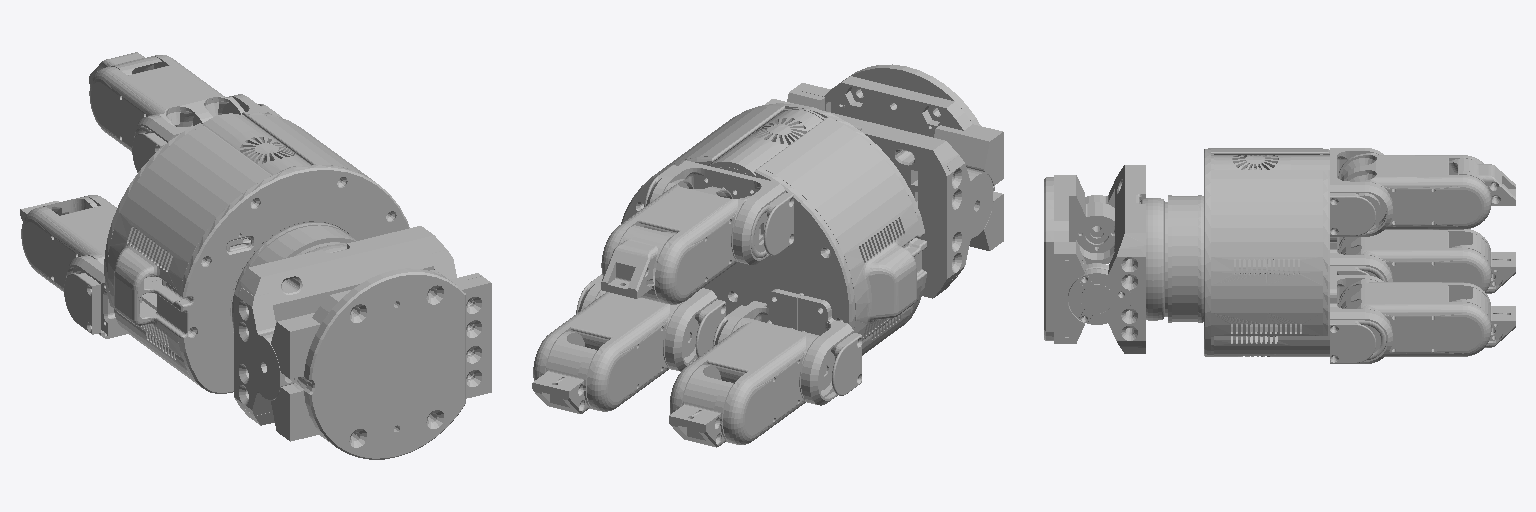
--- Facts derived from the render (not from the file) ---
Views: 3 orthographic renders of the robot side by side, from view 1: azimuth 30°, elevation 25°; view 2: azimuth 150°, elevation 25°; view 3: azimuth 270°, elevation 25°.
Robot: ur10 — 36 links, 35 joints (13 revolute, 22 fixed); root link world; default pose: all joints at 0.
Links seen in each view (by area): view 1: H1_base_link, H1_WR_wrist_base, H1_WR_wrist, H1_F1_link_1, H1_F2_link_1, H1_F1_base_link, H1_F2_base_link, H1_WR_force_torque_sensor, H1_F1_link_2, H1_F2_link_2; view 2: H1_base_link, H1_WR_wrist_base, H1_WR_wrist, H1_F2_link_1, H1_F3_link_1, H1_F1_base_link, H1_F1_link_1, H1_F2_base_link, H1_F3_link_2, H1_F2_link_2, H1_F1_link_2, H1_F3_base_link; view 3: H1_base_link, H1_WR_wrist, H1_F3_link_1, H1_F1_link_1, H1_WR_wrist_base, H1_WR_force_torque_sensor, H1_F3_base_link, H1_F2_link_1, H1_F1_base_link, H1_F2_base_link, H1_F1_link_2, H1_F2_link_2 (+1 smaller).
Boxes of the visible links, x1,y1,x2,y2 form: H1_base_link: (104, 112, 409, 393); H1_WR_wrist_base: (271, 268, 491, 459); H1_WR_wrist: (234, 226, 456, 425); H1_F1_link_1: (89, 55, 244, 151); H1_F2_link_1: (21, 195, 116, 291); H1_F1_base_link: (132, 94, 310, 175); H1_F2_base_link: (64, 255, 193, 381); H1_WR_force_torque_sensor: (232, 223, 355, 327); H1_F1_link_2: (89, 52, 162, 83); H1_F2_link_2: (20, 197, 97, 220); H1_base_link: (621, 103, 926, 340); H1_WR_wrist_base: (787, 64, 1003, 250); H1_WR_wrist: (765, 99, 992, 298); H1_F2_link_1: (670, 318, 834, 444); H1_F3_link_1: (533, 290, 698, 411); H1_F1_base_link: (644, 110, 822, 264); H1_F1_link_1: (601, 179, 760, 304); H1_F2_base_link: (713, 289, 911, 405); H1_F3_link_2: (532, 331, 596, 413); H1_F2_link_2: (669, 365, 733, 447); H1_F1_link_2: (601, 225, 675, 302); H1_F3_base_link: (576, 274, 725, 371); H1_base_link: (1204, 148, 1329, 356); H1_WR_wrist: (1068, 165, 1145, 353); H1_F3_link_1: (1338, 279, 1491, 356); H1_F1_link_1: (1338, 153, 1491, 229); H1_WR_wrist_base: (1044, 175, 1114, 343); H1_WR_force_torque_sensor: (1114, 195, 1203, 322); H1_F3_base_link: (1214, 270, 1392, 363); H1_F2_link_1: (1338, 229, 1491, 292); H1_F1_base_link: (1214, 148, 1392, 241); H1_F2_base_link: (1234, 237, 1392, 281); H1_F1_link_2: (1449, 158, 1515, 205); H1_F2_link_2: (1452, 233, 1515, 293).
Bounding box of the posed robot: 0.1514 × 0.287 × 0.1175 m (x, y, z).
Meshes: 15 distinct files referenced, 13 mesh visuals loaded (7 Collada DAE); not drawn: 10 (reference not matched to a file when rendering).

The robot description file, URDF, robot "ur10":
<?xml version="1.0" ?>
<!-- =================================================================================== -->
<!-- |    This document was autogenerated by xacro from /smart_grasping_sandbox/src/smart_grasping_sandbox/fh_desc/robots/right_H1_ur5.urdf | -->
<!-- |    EDITING THIS FILE BY HAND IS NOT RECOMMENDED                                 | -->
<!-- =================================================================================== -->
<robot name="ur10" xmlns:xacro="http://ros.org/wiki/xacro">
  <!--
  Author: Kelsey Hawkins
  Contributers: Jimmy Da Silva, Ajit Krisshna N L, Muhammad Asif Rana
-->
  <!-- Inertia parameters -->
  <!-- This mass might be incorrect -->
  <!-- These parameters are borrowed from the urcontrol.conf file
       but are not verified for the correct permutation.
       The permutation was guessed by looking at the UR5 parameters.
       Serious use of these parameters needs further inspection. -->
  <!-- Kinematic model -->
  <!-- Properties from urcontrol.conf -->
  <!-- Arbitrary offsets for shoulder/elbow joints -->
  <!-- measured from model -->
  <!-- measured from model -->
  <!-- link lengths used in model -->
  <link name="world"/>
  <joint name="world_joint" type="fixed">
    <parent link="world"/>
    <child link="base_link"/>
    <origin rpy="0.0 0.0 0.0" xyz="0.0 0.0 0.0"/>
  </joint>
  <link name="base_link">
    <visual>
      <geometry>
        <mesh filename="model://ur_description/meshes/ur10/visual/base.dae"/>
      </geometry>
      <material name="LightGrey">
        <color rgba="0.7 0.7 0.7 1.0"/>
      </material>
    </visual>
    <collision>
      <geometry>
        <mesh filename="model://ur_description/meshes/ur10/collision/base.dae"/>
      </geometry>
    </collision>
    <inertial>
      <mass value="4.0"/>
      <origin rpy="0 0 0" xyz="0.0 0.0 0.0"/>
      <inertia ixx="0.0061063308908" ixy="0.0" ixz="0.0" iyy="0.0061063308908" iyz="0.0" izz="0.01125"/>
    </inertial>
  </link>
  <joint name="shoulder_pan_joint" type="revolute">
    <parent link="base_link"/>
    <child link="shoulder_link"/>
    <origin rpy="0.0 0.0 0.0" xyz="0.0 0.0 0.1273"/>
    <axis xyz="0 0 1"/>
    <limit effort="330.0" lower="-3.14159265359" upper="3.14159265359" velocity="2.16"/>
    <dynamics damping="0.0" friction="0.0"/>
  </joint>
  <link name="shoulder_link">
    <visual>
      <geometry>
        <mesh filename="model://ur_description/meshes/ur10/visual/shoulder.dae"/>
      </geometry>
      <material name="LightGrey">
        <color rgba="0.7 0.7 0.7 1.0"/>
      </material>
    </visual>
    <collision>
      <geometry>
        <mesh filename="model://ur_description/meshes/ur10/collision/shoulder.dae"/>
      </geometry>
    </collision>
    <inertial>
      <mass value="7.778"/>
      <origin rpy="0 0 0" xyz="0.0 0.0 0.0"/>
      <inertia ixx="0.0314743125769" ixy="0.0" ixz="0.0" iyy="0.0314743125769" iyz="0.0" izz="0.021875625"/>
    </inertial>
  </link>
  <joint name="shoulder_lift_joint" type="revolute">
    <parent link="shoulder_link"/>
    <child link="upper_arm_link"/>
    <origin rpy="0.0 1.57079632679 0.0" xyz="0.0 0.220941 0.0"/>
    <axis xyz="0 1 0"/>
    <limit effort="330.0" lower="-3.14159265359" upper="3.14159265359" velocity="2.16"/>
    <dynamics damping="0.0" friction="0.0"/>
  </joint>
  <link name="upper_arm_link">
    <visual>
      <geometry>
        <mesh filename="model://ur_description/meshes/ur10/visual/upperarm.dae"/>
      </geometry>
      <material name="LightGrey">
        <color rgba="0.7 0.7 0.7 1.0"/>
      </material>
    </visual>
    <collision>
      <geometry>
        <mesh filename="model://ur_description/meshes/ur10/collision/upperarm.dae"/>
      </geometry>
    </collision>
    <inertial>
      <mass value="12.93"/>
      <origin rpy="0 0 0" xyz="0.0 0.0 0.306"/>
      <inertia ixx="0.421753803798" ixy="0.0" ixz="0.0" iyy="0.421753803798" iyz="0.0" izz="0.036365625"/>
    </inertial>
  </link>
  <joint name="elbow_joint" type="revolute">
    <parent link="upper_arm_link"/>
    <child link="forearm_link"/>
    <origin rpy="0.0 0.0 0.0" xyz="0.0 -0.1719 0.612"/>
    <axis xyz="0 1 0"/>
    <limit effort="150.0" lower="-3.14159265359" upper="3.14159265359" velocity="3.15"/>
    <dynamics damping="0.0" friction="0.0"/>
  </joint>
  <link name="forearm_link">
    <visual>
      <geometry>
        <mesh filename="model://ur_description/meshes/ur10/visual/forearm.dae"/>
      </geometry>
      <material name="LightGrey">
        <color rgba="0.7 0.7 0.7 1.0"/>
      </material>
    </visual>
    <collision>
      <geometry>
        <mesh filename="model://ur_description/meshes/ur10/collision/forearm.dae"/>
      </geometry>
    </collision>
    <inertial>
      <mass value="3.87"/>
      <origin rpy="0 0 0" xyz="0.0 0.0 0.28615"/>
      <inertia ixx="0.111069694097" ixy="0.0" ixz="0.0" iyy="0.111069694097" iyz="0.0" izz="0.010884375"/>
    </inertial>
  </link>
  <joint name="wrist_1_joint" type="revolute">
    <parent link="forearm_link"/>
    <child link="wrist_1_link"/>
    <origin rpy="0.0 1.57079632679 0.0" xyz="0.0 0.0 0.5723"/>
    <axis xyz="0 1 0"/>
    <limit effort="54.0" lower="-3.14159265359" upper="3.14159265359" velocity="3.2"/>
    <dynamics damping="0.0" friction="0.0"/>
  </joint>
  <link name="wrist_1_link">
    <visual>
      <geometry>
        <mesh filename="model://ur_description/meshes/ur10/visual/wrist1.dae"/>
      </geometry>
      <material name="LightGrey">
        <color rgba="0.7 0.7 0.7 1.0"/>
      </material>
    </visual>
    <collision>
      <geometry>
        <mesh filename="model://ur_description/meshes/ur10/collision/wrist1.dae"/>
      </geometry>
    </collision>
    <inertial>
      <mass value="1.96"/>
      <origin rpy="0 0 0" xyz="0.0 0.0 0.0"/>
      <inertia ixx="0.0051082479567" ixy="0.0" ixz="0.0" iyy="0.0051082479567" iyz="0.0" izz="0.0055125"/>
    </inertial>
  </link>
  <joint name="wrist_2_joint" type="revolute">
    <parent link="wrist_1_link"/>
    <child link="wrist_2_link"/>
    <origin rpy="0.0 0.0 0.0" xyz="0.0 0.1149 0.0"/>
    <axis xyz="0 0 1"/>
    <limit effort="54.0" lower="-3.14159265359" upper="3.14159265359" velocity="3.2"/>
    <dynamics damping="0.0" friction="0.0"/>
  </joint>
  <link name="wrist_2_link">
    <visual>
      <geometry>
        <mesh filename="model://ur_description/meshes/ur10/visual/wrist2.dae"/>
      </geometry>
      <material name="LightGrey">
        <color rgba="0.7 0.7 0.7 1.0"/>
      </material>
    </visual>
    <collision>
      <geometry>
        <mesh filename="model://ur_description/meshes/ur10/collision/wrist2.dae"/>
      </geometry>
    </collision>
    <inertial>
      <mass value="1.96"/>
      <origin rpy="0 0 0" xyz="0.0 0.0 0.0"/>
      <inertia ixx="0.0051082479567" ixy="0.0" ixz="0.0" iyy="0.0051082479567" iyz="0.0" izz="0.0055125"/>
    </inertial>
  </link>
  <joint name="wrist_3_joint" type="revolute">
    <parent link="wrist_2_link"/>
    <child link="wrist_3_link"/>
    <origin rpy="0.0 0.0 0.0" xyz="0.0 0.0 0.1157"/>
    <axis xyz="0 1 0"/>
    <limit effort="54.0" lower="-3.14159265359" upper="3.14159265359" velocity="3.2"/>
    <dynamics damping="0.0" friction="0.0"/>
  </joint>
  <link name="wrist_3_link">
    <visual>
      <geometry>
        <mesh filename="model://ur_description/meshes/ur10/visual/wrist3.dae"/>
      </geometry>
      <material name="LightGrey">
        <color rgba="0.7 0.7 0.7 1.0"/>
      </material>
    </visual>
    <collision>
      <geometry>
        <mesh filename="model://ur_description/meshes/ur10/collision/wrist3.dae"/>
      </geometry>
    </collision>
    <inertial>
      <mass value="0.202"/>
      <origin rpy="0 0 0" xyz="0.0 0.0 0.0"/>
      <inertia ixx="0.000526462289415" ixy="0.0" ixz="0.0" iyy="0.000526462289415" iyz="0.0" izz="0.000568125"/>
    </inertial>
  </link>
  <joint name="ee_fixed_joint" type="fixed">
    <parent link="wrist_3_link"/>
    <child link="ee_link"/>
    <origin rpy="0.0 0.0 1.57079632679" xyz="0.0 0.0922 0.0"/>
  </joint>
  <link name="ee_link">
    <collision>
      <geometry>
        <box size="0.01 0.01 0.01"/>
      </geometry>
      <origin rpy="0 0 0" xyz="-0.01 0 0"/>
    </collision>
  </link>
  <transmission name="shoulder_pan_trans">
    <type>transmission_interface/SimpleTransmission</type>
    <joint name="shoulder_pan_joint">
      <hardwareInterface>PositionJointInterface</hardwareInterface>
    </joint>
    <actuator name="shoulder_pan_motor">
      <mechanicalReduction>1</mechanicalReduction>
    </actuator>
  </transmission>
  <transmission name="shoulder_lift_trans">
    <type>transmission_interface/SimpleTransmission</type>
    <joint name="shoulder_lift_joint">
      <hardwareInterface>PositionJointInterface</hardwareInterface>
    </joint>
    <actuator name="shoulder_lift_motor">
      <mechanicalReduction>1</mechanicalReduction>
    </actuator>
  </transmission>
  <transmission name="elbow_trans">
    <type>transmission_interface/SimpleTransmission</type>
    <joint name="elbow_joint">
      <hardwareInterface>PositionJointInterface</hardwareInterface>
    </joint>
    <actuator name="elbow_motor">
      <mechanicalReduction>1</mechanicalReduction>
    </actuator>
  </transmission>
  <transmission name="wrist_1_trans">
    <type>transmission_interface/SimpleTransmission</type>
    <joint name="wrist_1_joint">
      <hardwareInterface>PositionJointInterface</hardwareInterface>
    </joint>
    <actuator name="wrist_1_motor">
      <mechanicalReduction>1</mechanicalReduction>
    </actuator>
  </transmission>
  <transmission name="wrist_2_trans">
    <type>transmission_interface/SimpleTransmission</type>
    <joint name="wrist_2_joint">
      <hardwareInterface>PositionJointInterface</hardwareInterface>
    </joint>
    <actuator name="wrist_2_motor">
      <mechanicalReduction>1</mechanicalReduction>
    </actuator>
  </transmission>
  <transmission name="wrist_3_trans">
    <type>transmission_interface/SimpleTransmission</type>
    <joint name="wrist_3_joint">
      <hardwareInterface>PositionJointInterface</hardwareInterface>
    </joint>
    <actuator name="wrist_3_motor">
      <mechanicalReduction>1</mechanicalReduction>
    </actuator>
  </transmission>
  <!-- nothing to do here at the moment -->
  <!-- ROS base_link to UR 'Base' Coordinates transform -->
  <link name="base"/>
  <joint name="base_link-base_fixed_joint" type="fixed">
    <!-- NOTE: this rotation is only needed as long as base_link itself is
                 not corrected wrt the real robot (ie: rotated over 180
                 degrees)
      -->
    <origin rpy="0 0 -3.14159265359" xyz="0 0 0"/>
    <parent link="base_link"/>
    <child link="base"/>
  </joint>
  <!-- Frame coincident with all-zeros TCP on UR controller -->
  <link name="tool0"/>
  <joint name="wrist_3_link-tool0_fixed_joint" type="fixed">
    <origin rpy="-1.57079632679 0 0" xyz="0 0.0922 0"/>
    <parent link="wrist_3_link"/>
    <child link="tool0"/>
  </joint>
  <link name="H1_base_attach"/>
  <material name="Blue">
    <color rgba="0.0 0.0 0.8 1.0"/>
  </material>
  <material name="Green">
    <color rgba="0.0 0.8 0.0 1.0"/>
  </material>
  <material name="BiotacGreen">
    <color rgba="0.31 0.85 0.42 1.0"/>
  </material>
  <material name="Grey">
    <color rgba="0.2 0.2 0.2 1.0"/>
  </material>
  <material name="LightGrey">
    <color rgba="0.6 0.6 0.6 1.0"/>
  </material>
  <material name="Red">
    <color rgba="0.8 0.0 0.0 1.0"/>
  </material>
  <material name="White">
    <color rgba="1.0 1.0 1.0 1.0"/>
  </material>
  <gazebo>
    <plugin filename="libgazebo_ros_control.so" name="ros_control">
      <robotSimType>gazebo_ros_control/DefaultRobotHWSim</robotSimType>
    </plugin>
  </gazebo>
  <link name="H1_WR_wrist_base">
    <inertial>
      <origin rpy="0 0 0" xyz="0.00326865129997316 -4.64589898998213E-06 0.0112847129271115"/>
      <mass value="0.126266795472122"/>
      <inertia ixx="7.45469352483292E-05" ixy="6.02324465005139E-09" ixz="7.48046652661961E-07" iyy="0.000152711306761993" iyz="2.66777152755212E-09" izz="0.000201286651417327"/>
    </inertial>
    <visual>
      <origin rpy="0 0 0" xyz="0 0 0"/>
      <geometry>
        <mesh filename="model://fh_desc/meshes/wrist_base.dae"/>
      </geometry>
      <material name="light_grey">
        <color rgba="0.75 0.75 0.75 1.0"/>
      </material>
    </visual>
    <collision>
      <origin rpy="0 0 0" xyz="0 0 0"/>
      <geometry>
        <mesh filename="model://fh_desc/meshes/wrist_base.dae"/>
      </geometry>
      <material name="light_grey">
        <color rgba="0.75 0.75 0.75 1.0"/>
      </material>
    </collision>
  </link>
  <link name="H1_WR_wrist">
    <inertial>
      <origin rpy="0 0 0" xyz="0.00160957599422527 -0.000629300457080406 0.0174740198321096"/>
      <mass value="0.111982108931474"/>
      <inertia ixx="7.18014678375949E-05" ixy="-9.11325601281988E-07" ixz="-2.80734883420538E-06" iyy="0.000184429517814393" iyz="-2.43285388562761E-07" izz="0.000238392777579217"/>
    </inertial>
    <visual>
      <origin rpy="0 0 0" xyz="0 0 0"/>
      <geometry>
        <mesh filename="model://fh_desc/meshes/wrist.dae"/>
      </geometry>
      <material name="light_grey">
        <color rgba="0.75 0.75 0.75 1.0"/>
      </material>
    </visual>
    <collision>
      <origin rpy="0 0 0" xyz="0 0 0"/>
      <geometry>
        <mesh filename="model://fh_desc/meshes/wrist.dae"/>
      </geometry>
      <material name="light_grey">
        <color rgba="0.75 0.75 0.75 1.0"/>
      </material>
    </collision>
  </link>
  <joint name="H1_WRJ1" type="revolute">
    <origin rpy="0 0 0" xyz="0 0 0.032"/>
    <parent link="H1_WR_wrist_base"/>
    <child link="H1_WR_wrist"/>
    <axis xyz="-1 0 0"/>
    <limit effort="50" lower="-0.785" upper="0.785" velocity="0.1"/>
    <dynamics damping="0.0" friction="0.0"/>
  </joint>
  <link name="H1_WR_force_torque_sensor">
    <inertial>
      <origin rpy="0 0 0" xyz="-2.94070736140857E-06 6.43877814287904E-05 0.0247092180043537"/>
      <mass value="0.0975991645938483"/>
      <inertia ixx="6.20729230428078E-05" ixy="-1.64643097783638E-08" ixz="-3.24429596458139E-08" iyy="6.18050372756729E-05" iyz="1.29139184791137E-08" izz="8.23283621428637E-05"/>
    </inertial>
    <visual>
      <origin rpy="0 0 0" xyz="0 0 0"/>
      <geometry>
        <mesh filename="model://fh_desc/meshes/force_torque_sensor.dae"/>
      </geometry>
      <material name="light_grey">
        <color rgba="0.75 0.75 0.75 1.0"/>
      </material>
    </visual>
    <collision>
      <origin rpy="0 0 0" xyz="0 0 0"/>
      <geometry>
        <mesh filename="model://fh_desc/meshes/force_torque_sensor.dae"/>
      </geometry>
      <material name="light_grey">
        <color rgba="0.75 0.75 0.75 1.0"/>
      </material>
    </collision>
  </link>
  <link name="H1_WR_face_plate"/>
  <joint name="H1_WR_wrist_to_ft_sensor" type="fixed">
    <origin rpy="0 0 0" xyz="0 0 0.015"/>
    <parent link="H1_WR_wrist"/>
    <child link="H1_WR_force_torque_sensor"/>
  </joint>
  <joint name="H1_WR_wrist_base" type="fixed">
    <origin rpy="0 0 0" xyz="0 0 0"/>
    <parent link="H1_base_attach"/>
    <child link="H1_WR_wrist_base"/>
  </joint>
  <joint name="H1_WRft_sensor_to_faceplate" type="fixed">
    <origin rpy="0 0 0" xyz="0 0 0.0505"/>
    <parent link="H1_WR_force_torque_sensor"/>
    <child link="H1_WR_face_plate"/>
  </joint>
  <transmission name="H1_WRJ1_transmission">
    <type>transmission_interface/SimpleTransmission</type>
    <actuator name="H1_WRJ1">
      <mechanicalReduction>1</mechanicalReduction>
    </actuator>
    <joint name="H1_WRJ1">
      <hardwareInterface>EffortJointInterface</hardwareInterface>
    </joint>
  </transmission>
  <link name="H1_base_link">
    <inertial>
      <origin rpy="0 0 0" xyz="0.000167074827019974 0.017647639199748 0.0354392421665256"/>
      <mass value="0.802291302622713"/>
      <inertia ixx="0.00268740968940699" ixy="-2.63877052807301E-06" ixz="8.21876760057436E-06" iyy="0.00273884664780255" iyz="0.000454017867570455" izz="0.00145589837379105"/>
    </inertial>
    <visual>
      <origin rpy="0 0 0" xyz="0 0 0"/>
      <geometry>
        <mesh filename="model://fh_desc/meshes/palm_base.dae"/>
      </geometry>
      <material name="light_grey">
        <color rgba="0.75 0.75 0.75 1.0"/>
      </material>
    </visual>
    <collision>
      <origin rpy="0 0 0" xyz="0 0 0"/>
      <geometry>
        <mesh filename="model://fh_desc/meshes/palm_base.dae"/>
      </geometry>
      <material name="light_grey">
        <color rgba="0.75 0.75 0.75 1.0"/>
      </material>
    </collision>
  </link>
  <joint name="H1Base" type="fixed">
    <origin rpy="0 0 0" xyz="0 0 0"/>
    <parent link="H1_WR_face_plate"/>
    <child link="H1_wrist_attach"/>
  </joint>
  <link name="H1_insert_F1"/>
  <joint name="H1_dummy_joint_1" type="fixed">
    <origin rpy="0 0 0" xyz="0 0.045 0.002"/>
    <parent link="H1_base_link"/>
    <child link="H1_insert_F1"/>
  </joint>
  <link name="H1_insert_F2"/>
  <joint name="H1_dummy_joint_2" type="fixed">
    <origin rpy="0 0 3.14159265359" xyz="0.038971 -0.0225 0.002"/>
    <parent link="H1_base_link"/>
    <child link="H1_insert_F2"/>
  </joint>
  <link name="H1_insert_F3"/>
  <joint name="H1_dummy_joint_3" type="fixed">
    <origin rpy="0 0 3.14159265359" xyz="-0.038971 -0.0225 0.002"/>
    <parent link="H1_base_link"/>
    <child link="H1_insert_F3"/>
  </joint>
  <link name="H1_wrist_attach"/>
  <joint name="H1_base_link_wrist_attach" type="fixed">
    <origin rpy="0 0 0" xyz="0 0 -0.0005"/>
    <child link="H1_base_link"/>
    <parent link="H1_wrist_attach"/>
  </joint>
  <link name="H1_F1_base_link">
    <inertial>
      <origin rpy="0 0 0" xyz="-0.00016975101978813 0.00197421910589327 0.0561457825889687"/>
      <mass value="0.206184327436554"/>
      <inertia ixx="0.000196208681085273" ixy="7.25965267883658E-08" ixz="-1.42989296818671E-06" iyy="0.00022500240306659" iyz="-8.62726850629812E-06" izz="7.34501911009421E-05"/>
    </inertial>
    <visual>
      <origin rpy="0 0 0" xyz="0 0 0"/>
      <geometry>
        <mesh filename="model://fh_desc/meshes/base_link.dae"/>
      </geometry>
      <material name="light_grey">
        <color rgba="0.75 0.75 0.75 1.0"/>
      </material>
    </visual>
    <collision>
      <origin rpy="0 0 0" xyz="0 0 0"/>
      <geometry>
        <mesh filename="model://fh_desc/meshes/base_link.dae"/>
      </geometry>
      <material name="light_grey">
        <color rgba="0.75 0.75 0.75 1.0"/>
      </material>
    </collision>
  </link>
  <link name="H1_F1_link_1">
    <inertial>
      <origin rpy="0 0 0" xyz="-0.000237426002648366 -0.000311474464416824 0.02717870175844"/>
      <mass value="0.148439137620102"/>
      <inertia ixx="7.87590932011867E-05" ixy="-2.09812809718026E-08" ixz="-4.7018912298647E-07" iyy="9.21180950643254E-05" iyz="1.02291530412464E-06" izz="4.38404666397581E-05"/>
    </inertial>
    <visual>
      <origin rpy="0 0 0" xyz="0 0 0"/>
      <geometry>
        <mesh filename="model://fh_desc/meshes/prox.dae"/>
      </geometry>
      <material name="light_grey">
        <color rgba="0.75 0.75 0.75 1.0"/>
      </material>
    </visual>
    <collision>
      <origin rpy="0 0 0" xyz="0 0 0"/>
      <geometry>
        <mesh filename="model://fh_desc/meshes/prox.dae"/>
      </geometry>
      <material name="light_grey">
        <color rgba="0.75 0.75 0.75 1.0"/>
      </material>
    </collision>
  </link>
  <link name="H1_F1_link_2">
    <inertial>
      <origin rpy="0 0 0" xyz="0.000688458734451483 -0.00121669160147178 0.0179379664791534"/>
      <mass value="0.0468986964963515"/>
      <inertia ixx="1.66577929038936E-05" ixy="1.91370536767985E-09" ixz="-7.90963473136566E-07" iyy="1.65880289089031E-05" iyz="-2.10962265976158E-06" izz="5.79382496615135E-06"/>
    </inertial>
    <visual>
      <origin rpy="0 0 0" xyz="0 0 0"/>
      <geometry>
        <mesh filename="model://fh_desc/meshes/dist.dae"/>
      </geometry>
      <material name="light_grey">
        <color rgba="0.75 0.75 0.75 1.0"/>
      </material>
    </visual>
    <collision>
      <origin rpy="0 0 0" xyz="0 0 0"/>
      <geometry>
        <mesh filename="model://fh_desc/meshes/dist.dae"/>
      </geometry>
      <material name="light_grey">
        <color rgba="0.75 0.75 0.75 1.0"/>
      </material>
    </collision>
  </link>
  <joint name="H1_F1Base" type="fixed">
    <origin rpy="0 0 0" xyz="0 0 0"/>
    <parent link="H1_insert_F1"/>
    <child link="H1_F1_base_link"/>
  </joint>
  <joint name="H1_F1J1" type="revolute">
    <origin rpy="0 0 0" xyz="0 0 0.096"/>
    <parent link="H1_F1_base_link"/>
    <child link="H1_F1_link_1"/>
    <axis xyz="1 0 0"/>
    <limit effort="50" lower="-1.57079632679" upper="1.0472" velocity="1.0"/>
    <dynamics damping="0.0" friction="0.0"/>
  </joint>
  <joint name="H1_F1J2" type="revolute">
    <origin rpy="0 0 0" xyz="0 0 0.06"/>
    <axis xyz="1 0 0"/>
    <parent link="H1_F1_link_1"/>
    <child link="H1_F1_link_2"/>
    <limit effort="50" lower="-1.04716" upper="1.57075" velocity="1.0"/>
    <dynamics damping="0.0" friction="0.0"/>
  </joint>
  <transmission name="H1_F1J1_transmission">
    <type>transmission_interface/SimpleTransmission</type>
    <actuator name="H1_F1J1">
      <mechanicalReduction>1</mechanicalReduction>
    </actuator>
    <joint name="H1_F1J1">
      <hardwareInterface>EffortJointInterface</hardwareInterface>
    </joint>
  </transmission>
  <transmission name="H1_F1J2_transmission">
    <type>transmission_interface/SimpleTransmission</type>
    <actuator name="H1_F1J2">
      <mechanicalReduction>1</mechanicalReduction>
    </actuator>
    <joint name="H1_F1J2">
      <hardwareInterface>EffortJointInterface</hardwareInterface>
    </joint>
  </transmission>
  <!-- finger tip -->
  <link name="H1_F1_tip">
    <inertial>
      <origin rpy="0 0 0" xyz="-0.000925580990320645 -0.00495543398528436 0.0355865585792753"/>
      <mass value="0.00906322686585137"/>
      <inertia ixx="1.10049088227995E-06" ixy="-3.7290982171096E-09" ixz="-9.54389365908683E-09" iyy="1.36130530510584E-06" iyz="6.66133713720777E-08" izz="6.42259773618367E-07"/>
    </inertial>
    <visual>
      <origin rpy="0 0 0" xyz="0 0 0"/>
      <geometry>
        <mesh filename="model://fh_desc/meshes/omd-d18-tip.dae"/>
      </geometry>
      <material name="light_grey">
        <color rgba="0.75 0.75 0.75 1.0"/>
      </material>
    </visual>
    <collision>
      <origin rpy="0 0 0" xyz="0 0 0"/>
      <geometry>
        <mesh filename="model://fh_desc/meshes/omd-d18-tip.dae"/>
      </geometry>
      <material name="light_grey">
        <color rgba="0.75 0.75 0.75 1.0"/>
      </material>
    </collision>
  </link>
  <link name="H1_F1_optoforce"/>
  <joint name="H1_F1_tip_to_optoforce" type="fixed">
    <parent link="H1_F1_tip"/>
    <child link="H1_F1_optoforce"/>
    <origin rpy="-0.35 0 0" xyz="0 -0.006 0.046"/>
  </joint>
  <joint name="H1_F1_tip" type="fixed">
    <parent link="H1_F1_link_2"/>
    <child link="H1_F1_tip"/>
  </joint>
  <link name="H1_F2_base_link">
    <inertial>
      <origin rpy="0 0 0" xyz="-0.00016975101978813 0.00197421910589327 0.0561457825889687"/>
      <mass value="0.206184327436554"/>
      <inertia ixx="0.000196208681085273" ixy="7.25965267883658E-08" ixz="-1.42989296818671E-06" iyy="0.00022500240306659" iyz="-8.62726850629812E-06" izz="7.34501911009421E-05"/>
    </inertial>
    <visual>
      <origin rpy="0 0 0" xyz="0 0 0"/>
      <geometry>
        <mesh filename="model://fh_desc/meshes/base_link.dae"/>
      </geometry>
      <material name="light_grey">
        <color rgba="0.75 0.75 0.75 1.0"/>
      </material>
    </visual>
    <collision>
      <origin rpy="0 0 0" xyz="0 0 0"/>
      <geometry>
        <mesh filename="model://fh_desc/meshes/base_link.dae"/>
      </geometry>
      <material name="light_grey">
        <color rgba="0.75 0.75 0.75 1.0"/>
      </material>
    </collision>
  </link>
  <link name="H1_F2_link_1">
    <inertial>
      <origin rpy="0 0 0" xyz="-0.000237426002648366 -0.000311474464416824 0.02717870175844"/>
      <mass value="0.148439137620102"/>
      <inertia ixx="7.87590932011867E-05" ixy="-2.09812809718026E-08" ixz="-4.7018912298647E-07" iyy="9.21180950643254E-05" iyz="1.02291530412464E-06" izz="4.38404666397581E-05"/>
    </inertial>
    <visual>
      <origin rpy="0 0 0" xyz="0 0 0"/>
      <geometry>
        <mesh filename="model://fh_desc/meshes/prox.dae"/>
      </geometry>
      <material name="light_grey">
        <color rgba="0.75 0.75 0.75 1.0"/>
      </material>
    </visual>
    <collision>
      <origin rpy="0 0 0" xyz="0 0 0"/>
      <geometry>
        <mesh filename="model://fh_desc/meshes/prox.dae"/>
      </geometry>
      <material name="light_grey">
        <color rgba="0.75 0.75 0.75 1.0"/>
      </material>
    </collision>
  </link>
  <link name="H1_F2_link_2">
    <inertial>
      <origin rpy="0 0 0" xyz="0.000688458734451483 -0.00121669160147178 0.0179379664791534"/>
      <mass value="0.0468986964963515"/>
      <inertia ixx="1.66577929038936E-05" ixy="1.91370536767985E-09" ixz="-7.90963473136566E-07" iyy="1.65880289089031E-05" iyz="-2.10962265976158E-06" izz="5.79382496615135E-06"/>
    </inertial>
    <visual>
      <origin rpy="0 0 0" xyz="0 0 0"/>
      <geometry>
        <mesh filename="model://fh_desc/meshes/dist.dae"/>
      </geometry>
      <material name="light_grey">
        <color rgba="0.75 0.75 0.75 1.0"/>
      </material>
    </visual>
    <collision>
      <origin rpy="0 0 0" xyz="0 0 0"/>
      <geometry>
        <mesh filename="model://fh_desc/meshes/dist.dae"/>
      </geometry>
      <material name="light_grey">
        <color rgba="0.75 0.75 0.75 1.0"/>
      </material>
    </collision>
  </link>
  <joint name="H1_F2Base" type="fixed">
    <origin rpy="0 0 0" xyz="0 0 0"/>
    <parent link="H1_insert_F2"/>
    <child link="H1_F2_base_link"/>
  </joint>
  <joint name="H1_F2J1" type="revolute">
    <origin rpy="0 0 0" xyz="0 0 0.096"/>
    <parent link="H1_F2_base_link"/>
    <child link="H1_F2_link_1"/>
    <axis xyz="1 0 0"/>
    <limit effort="30" lower="-1.57079632679" upper="1.0472" velocity="1.0"/>
    <dynamics damping="0.0" friction="0.0"/>
  </joint>
  <joint name="H1_F2J2" type="revolute">
    <origin rpy="0 0 0" xyz="0 0 0.06"/>
    <axis xyz="1 0 0"/>
    <parent link="H1_F2_link_1"/>
    <child link="H1_F2_link_2"/>
    <limit effort="30" lower="-1.04716" upper="1.57075" velocity="1.0"/>
    <dynamics damping="0.0" friction="0.0"/>
  </joint>
  <transmission name="H1_F2J1_transmission">
    <type>transmission_interface/SimpleTransmission</type>
    <actuator name="H1_F2J1">
      <mechanicalReduction>1</mechanicalReduction>
    </actuator>
    <joint name="H1_F2J1">
      <hardwareInterface>EffortJointInterface</hardwareInterface>
    </joint>
  </transmission>
  <transmission name="H1_F2J2_transmission">
    <type>transmission_interface/SimpleTransmission</type>
    <actuator name="H1_F2J2">
      <mechanicalReduction>1</mechanicalReduction>
    </actuator>
    <joint name="H1_F2J2">
      <hardwareInterface>EffortJointInterface</hardwareInterface>
    </joint>
  </transmission>
  <!-- finger tip -->
  <link name="H1_F2_tip">
    <inertial>
      <origin rpy="0 0 0" xyz="-0.000925580990320645 -0.00495543398528436 0.0355865585792753"/>
      <mass value="0.00906322686585137"/>
      <inertia ixx="1.10049088227995E-06" ixy="-3.7290982171096E-09" ixz="-9.54389365908683E-09" iyy="1.36130530510584E-06" iyz="6.66133713720777E-08" izz="6.42259773618367E-07"/>
    </inertial>
    <visual>
      <origin rpy="0 0 0" xyz="0 0 0"/>
      <geometry>
        <mesh filename="model://fh_desc/meshes/omd-d18-tip.dae"/>
      </geometry>
      <material name="light_grey">
        <color rgba="0.75 0.75 0.75 1.0"/>
      </material>
    </visual>
    <collision>
      <origin rpy="0 0 0" xyz="0 0 0"/>
      <geometry>
        <mesh filename="model://fh_desc/meshes/omd-d18-tip.dae"/>
      </geometry>
      <material name="light_grey">
        <color rgba="0.75 0.75 0.75 1.0"/>
      </material>
    </collision>
  </link>
  <link name="H1_F2_optoforce"/>
  <joint name="H1_F2_tip_to_optoforce" type="fixed">
    <parent link="H1_F2_tip"/>
    <child link="H1_F2_optoforce"/>
    <origin rpy="-0.35 0 0" xyz="0 -0.006 0.046"/>
  </joint>
  <joint name="H1_F2_tip" type="fixed">
    <parent link="H1_F2_link_2"/>
    <child link="H1_F2_tip"/>
  </joint>
  <link name="H1_F3_base_link">
    <inertial>
      <origin rpy="0 0 0" xyz="-0.00016975101978813 0.00197421910589327 0.0561457825889687"/>
      <mass value="0.206184327436554"/>
      <inertia ixx="0.000196208681085273" ixy="7.25965267883658E-08" ixz="-1.42989296818671E-06" iyy="0.00022500240306659" iyz="-8.62726850629812E-06" izz="7.34501911009421E-05"/>
    </inertial>
    <visual>
      <origin rpy="0 0 0" xyz="0 0 0"/>
      <geometry>
        <mesh filename="model://fh_desc/meshes/base_link.dae"/>
      </geometry>
      <material name="light_grey">
        <color rgba="0.75 0.75 0.75 1.0"/>
      </material>
    </visual>
    <collision>
      <origin rpy="0 0 0" xyz="0 0 0"/>
      <geometry>
        <mesh filename="model://fh_desc/meshes/base_link.dae"/>
      </geometry>
      <material name="light_grey">
        <color rgba="0.75 0.75 0.75 1.0"/>
      </material>
    </collision>
  </link>
  <link name="H1_F3_link_1">
    <inertial>
      <origin rpy="0 0 0" xyz="-0.000237426002648366 -0.000311474464416824 0.02717870175844"/>
      <mass value="0.148439137620102"/>
      <inertia ixx="7.87590932011867E-05" ixy="-2.09812809718026E-08" ixz="-4.7018912298647E-07" iyy="9.21180950643254E-05" iyz="1.02291530412464E-06" izz="4.38404666397581E-05"/>
    </inertial>
    <visual>
      <origin rpy="0 0 0" xyz="0 0 0"/>
      <geometry>
        <mesh filename="model://fh_desc/meshes/prox.dae"/>
      </geometry>
      <material name="light_grey">
        <color rgba="0.75 0.75 0.75 1.0"/>
      </material>
    </visual>
    <collision>
      <origin rpy="0 0 0" xyz="0 0 0"/>
      <geometry>
        <mesh filename="model://fh_desc/meshes/prox.dae"/>
      </geometry>
      <material name="light_grey">
        <color rgba="0.75 0.75 0.75 1.0"/>
      </material>
    </collision>
  </link>
  <link name="H1_F3_link_2">
    <inertial>
      <origin rpy="0 0 0" xyz="0.000688458734451483 -0.00121669160147178 0.0179379664791534"/>
      <mass value="0.0468986964963515"/>
      <inertia ixx="1.66577929038936E-05" ixy="1.91370536767985E-09" ixz="-7.90963473136566E-07" iyy="1.65880289089031E-05" iyz="-2.10962265976158E-06" izz="5.79382496615135E-06"/>
    </inertial>
    <visual>
      <origin rpy="0 0 0" xyz="0 0 0"/>
      <geometry>
        <mesh filename="model://fh_desc/meshes/dist.dae"/>
      </geometry>
      <material name="light_grey">
        <color rgba="0.75 0.75 0.75 1.0"/>
      </material>
    </visual>
    <collision>
      <origin rpy="0 0 0" xyz="0 0 0"/>
      <geometry>
        <mesh filename="model://fh_desc/meshes/dist.dae"/>
      </geometry>
      <material name="light_grey">
        <color rgba="0.75 0.75 0.75 1.0"/>
      </material>
    </collision>
  </link>
  <joint name="H1_F3Base" type="fixed">
    <origin rpy="0 0 0" xyz="0 0 0"/>
    <parent link="H1_insert_F3"/>
    <child link="H1_F3_base_link"/>
  </joint>
  <joint name="H1_F3J1" type="revolute">
    <origin rpy="0 0 0" xyz="0 0 0.096"/>
    <parent link="H1_F3_base_link"/>
    <child link="H1_F3_link_1"/>
    <axis xyz="1 0 0"/>
    <limit effort="30" lower="-1.57079632679" upper="1.0472" velocity="1.0"/>
    <dynamics damping="0.0" friction="0.0"/>
  </joint>
  <joint name="H1_F3J2" type="revolute">
    <origin rpy="0 0 0" xyz="0 0 0.06"/>
    <axis xyz="1 0 0"/>
    <parent link="H1_F3_link_1"/>
    <child link="H1_F3_link_2"/>
    <limit effort="30" lower="-1.04716" upper="1.57075" velocity="1.0"/>
    <dynamics damping="0.0" friction="0.0"/>
  </joint>
  <transmission name="H1_F3J1_transmission">
    <type>transmission_interface/SimpleTransmission</type>
    <actuator name="H1_F3J1">
      <mechanicalReduction>1</mechanicalReduction>
    </actuator>
    <joint name="H1_F3J1">
      <hardwareInterface>EffortJointInterface</hardwareInterface>
    </joint>
  </transmission>
  <transmission name="H1_F3J2_transmission">
    <type>transmission_interface/SimpleTransmission</type>
    <actuator name="H1_F3J2">
      <mechanicalReduction>1</mechanicalReduction>
    </actuator>
    <joint name="H1_F3J2">
      <hardwareInterface>EffortJointInterface</hardwareInterface>
    </joint>
  </transmission>
  <!-- finger tip -->
  <link name="H1_F3_tip">
    <inertial>
      <origin rpy="0 0 0" xyz="-0.000925580990320645 -0.00495543398528436 0.0355865585792753"/>
      <mass value="0.00906322686585137"/>
      <inertia ixx="1.10049088227995E-06" ixy="-3.7290982171096E-09" ixz="-9.54389365908683E-09" iyy="1.36130530510584E-06" iyz="6.66133713720777E-08" izz="6.42259773618367E-07"/>
    </inertial>
    <visual>
      <origin rpy="0 0 0" xyz="0 0 0"/>
      <geometry>
        <mesh filename="model://fh_desc/meshes/omd-d18-tip.dae"/>
      </geometry>
      <material name="light_grey">
        <color rgba="0.75 0.75 0.75 1.0"/>
      </material>
    </visual>
    <collision>
      <origin rpy="0 0 0" xyz="0 0 0"/>
      <geometry>
        <mesh filename="model://fh_desc/meshes/omd-d18-tip.dae"/>
      </geometry>
      <material name="light_grey">
        <color rgba="0.75 0.75 0.75 1.0"/>
      </material>
    </collision>
  </link>
  <link name="H1_F3_optoforce"/>
  <joint name="H1_F3_tip_to_optoforce" type="fixed">
    <parent link="H1_F3_tip"/>
    <child link="H1_F3_optoforce"/>
    <origin rpy="-0.35 0 0" xyz="0 -0.006 0.046"/>
  </joint>
  <joint name="H1_F3_tip" type="fixed">
    <parent link="H1_F3_link_2"/>
    <child link="H1_F3_tip"/>
  </joint>
  <joint name="arm_to_hand" type="fixed">
    <parent link="ee_link"/>
    <child link="H1_base_attach"/>
    <origin rpy="1.57079632679 3.14159265359 1.57079632679" xyz="0.012 0.0 0.0"/>
  </joint>
</robot>
